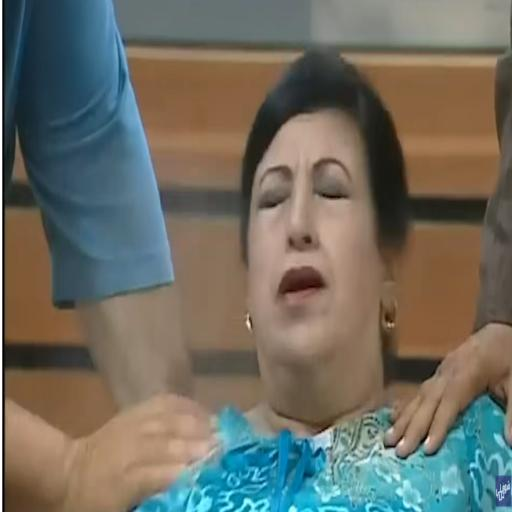jannet: (246, 109, 382, 416)
